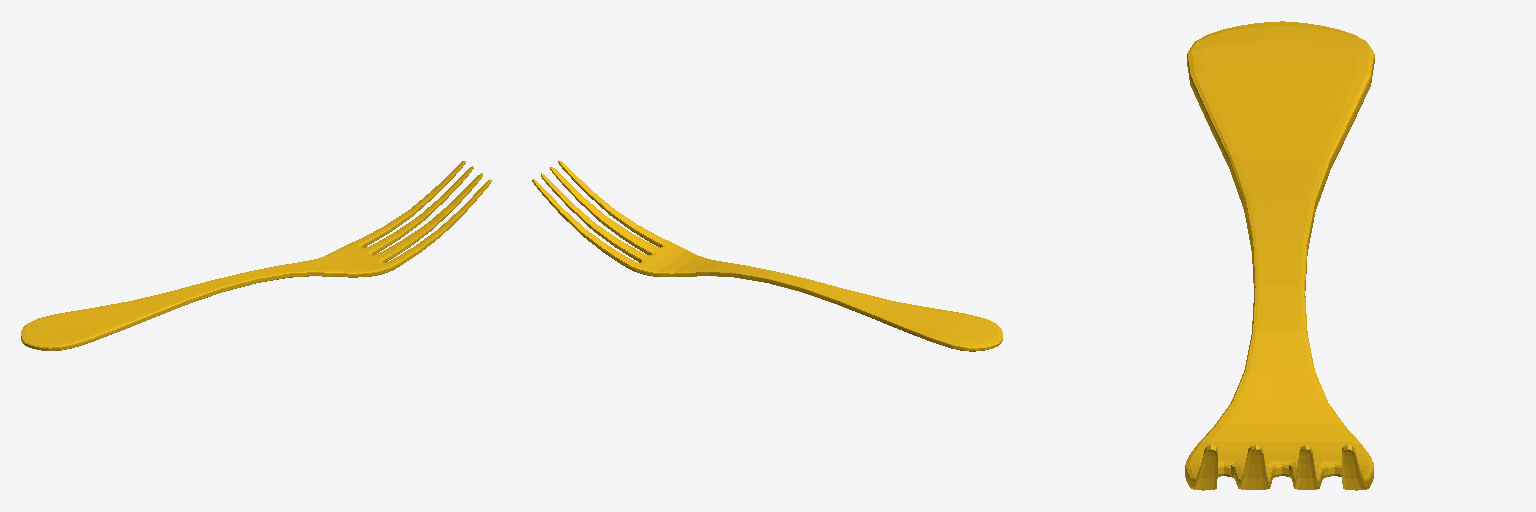
robot.urdf — fork.urdf:
<?xml version="1.0" ?>
<robot name="fork.urdf">
  <link name="forkLink">
    <contact>
      <lateral_friction value="1.0"/>
      <inertia_scaling value="3.0"/>
    </contact>
    <inertial>
      <origin rpy="0 0 0" xyz="0 0 0"/>
       <mass value=".1"/>
       <inertia ixx="1" ixy="0" ixz="0" iyy="1" iyz="0" izz="1"/>
    </inertial>
    <visual>
      <origin rpy="0 0 0" xyz="0 0 0"/>
      <geometry>
        <mesh filename="fork.obj" scale="1 1 1"/>
      </geometry>
      <material name="">
        <color rgba="0.96 0.76 0.13 1.0"/>
      </material>
    </visual>
    <collision>
      <origin rpy="0 0 0" xyz="0 0 0"/>
      <geometry>
        <mesh filename="fork.obj" scale="1 1 1"/>
      </geometry>
    </collision>
  </link>
</robot>

--- Facts derived from the render (not from the file) ---
The picture shows the robot from 3 angles, left to right: view 1: azimuth 30°, elevation 25°; view 2: azimuth 150°, elevation 25°; view 3: azimuth 270°, elevation 25°; orthographic projection.
Robot: fork.urdf — 1 links, 0 joints (none); root link forkLink; default pose: every joint at zero.
Visible links, largest first — view 1: forkLink; view 2: forkLink; view 3: forkLink.
Boxes of the visible links, x1,y1,x2,y2 form: forkLink: [21, 161, 491, 350]; forkLink: [532, 160, 1002, 351]; forkLink: [1185, 21, 1374, 490].
Bounding box of the posed robot: 0.1032 × 0.014 × 0.0143 m (x, y, z).
1 mesh visuals loaded from 1 distinct referenced files (1 OBJ).